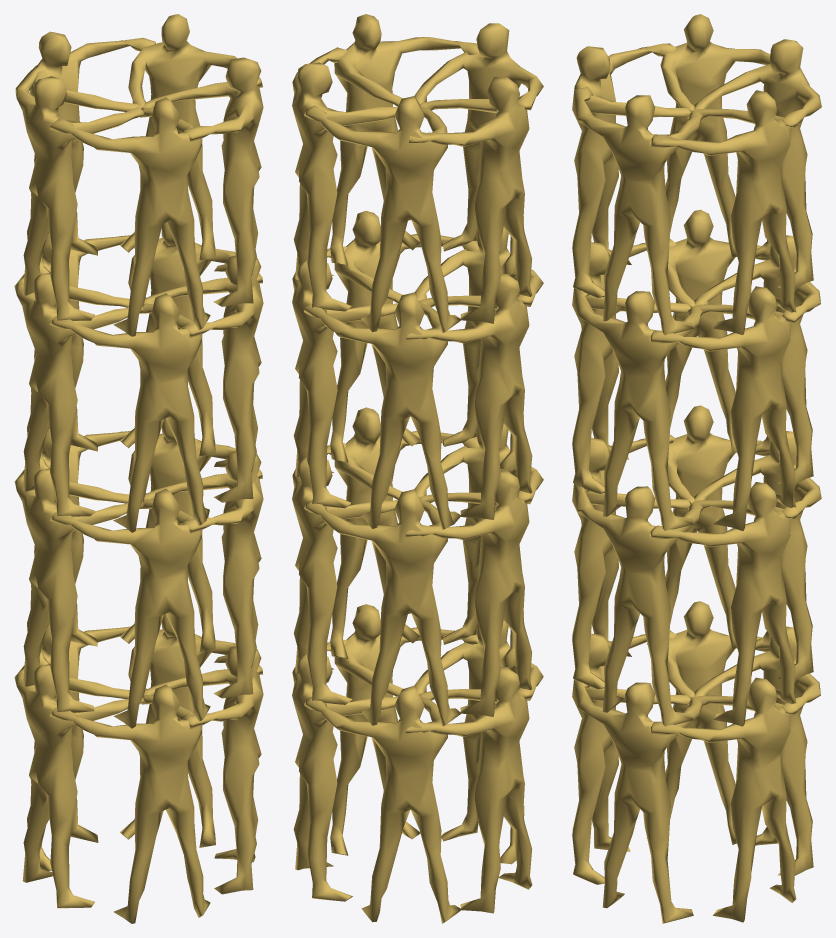
Rendered from mantop.obj.
3 views of the same model, side by side, from view 1: azimuth 30°, elevation 25°; view 2: azimuth 150°, elevation 25°; view 3: azimuth 270°, elevation 25° (orthographic).
Visible parts, largest first — view 1: object_2, object_6, object_16, object_11, object_1, object_15, object_5, object_10, object_3, object_17, object_7, object_12 (+8 smaller); view 2: object_20, object_9, object_19, object_14, object_1, object_15, object_10, object_5, object_4, object_3, object_18, object_8 (+8 smaller); view 3: object_4, object_3, object_18, object_8, object_13, object_17, object_7, object_12, object_2, object_1, object_20, object_10 (+8 smaller).
Part boxes in pixels (<box>): object_2: <box>49,97,210,336</box>; object_6: <box>49,293,209,532</box>; object_16: <box>50,684,210,923</box>; object_11: <box>50,489,210,728</box>; object_1: <box>15,65,144,320</box>; object_15: <box>14,653,144,908</box>; object_5: <box>14,262,143,516</box>; object_10: <box>14,457,144,712</box>; object_3: <box>141,57,263,306</box>; object_17: <box>144,646,263,894</box>; object_7: <box>144,255,263,502</box>; object_12: <box>143,451,263,698</box>; object_20: <box>304,96,461,332</box>; object_9: <box>304,292,461,529</box>; object_19: <box>304,685,461,923</box>; object_14: <box>304,489,461,726</box>; object_1: <box>409,77,532,323</box>; object_15: <box>405,667,532,913</box>; object_10: <box>405,470,532,716</box>; object_5: <box>405,274,532,519</box>; object_4: <box>292,47,397,311</box>; object_3: <box>330,14,479,265</box>; object_18: <box>292,639,398,901</box>; object_8: <box>292,246,398,508</box>; object_4: <box>650,90,796,335</box>; object_3: <box>574,87,703,335</box>; object_18: <box>650,677,796,922</box>; object_8: <box>650,286,796,530</box>; object_13: <box>650,482,796,726</box>; object_17: <box>575,680,702,923</box>; object_7: <box>575,288,703,530</box>; object_12: <box>575,484,703,726</box>; object_2: <box>572,43,691,297</box>; object_1: <box>647,14,770,257</box>; object_20: <box>694,39,821,288</box>; object_10: <box>646,405,769,648</box>.
Bounding box in the file's own units: 1925 × 6891 × 1912.
